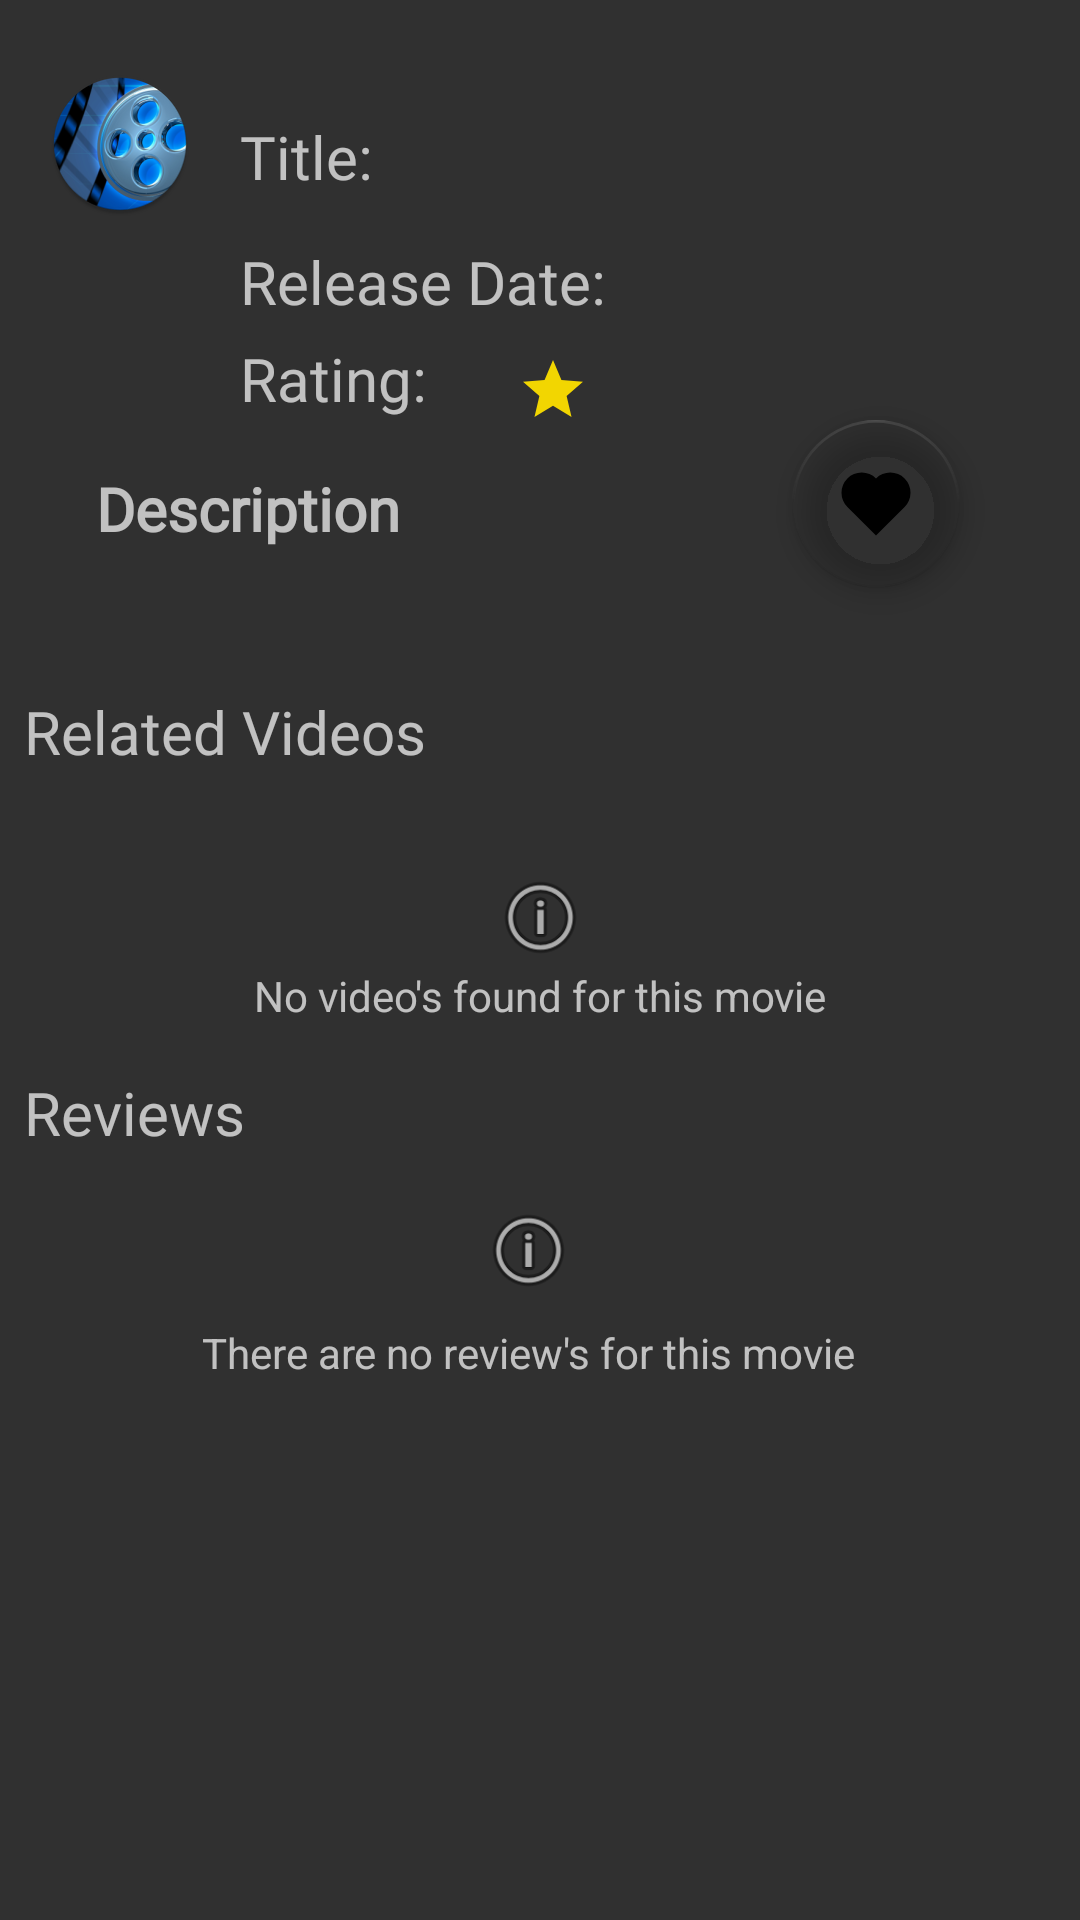

Icons on this 1080px x 1920px Android screen, each with its box as (x1, y1, x2, y2):
heart favourite: (842, 420, 910, 535)
